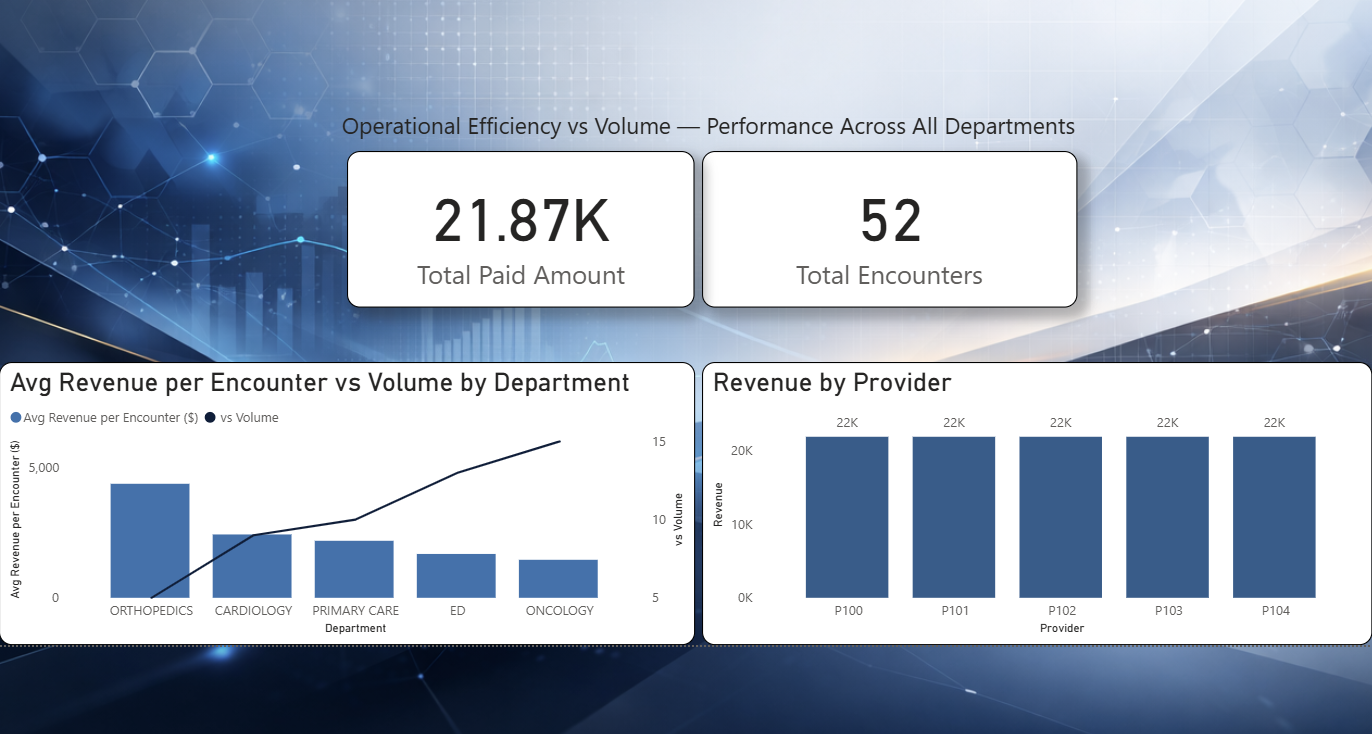

The dashboard page shown, as its layout file describes it:
{"tool":"powerbi","page":{"name":"Page 1","canvas":[1280,720],"ordinal":0},"visuals":[{"type":"lineClusteredColumnComboChart","title":"Avg Revenue per Encounter vs Volume by Department","fields":{"Category":["raw_encounters.department"],"Y2":["Count(raw_encounters.encounter_id)"],"Y":["raw_billing.Avg Paid per Encounter"]},"box":[0,455.9,648.9,263.8],"z":0},{"type":"clusteredColumnChart","fields":{"Y":["Sum(raw_billing.paid_amount)"],"Category":["raw_encounters.provider_id"]},"box":[655.4,455.9,624.6,263.8],"z":1000},{"type":"card","fields":{"Values":["Count(raw_encounters.encounter_id)"]},"box":[655.4,259.2,349.6,146.4],"z":2000},{"type":"card","fields":{"Values":["Sum(raw_billing.paid_amount)"]},"box":[324.4,259.2,324.4,146.4],"z":3000},{"type":"textbox","box":[266.6,215.4,789.6,43.8],"z":4000}]}

Visuals, with their boxes on the page's 1280x720 design canvas (x1, y1, x2, y2). These are canvas units, not pixel positions in the 1372x734 screenshot, which may show the page scaled, cropped or inside an application window:
"Avg Revenue per Encounter vs Volume by Department" lineClusteredColumnComboChart: bbox=[0, 456, 649, 720]
clusteredColumnChart - Sum(raw_billing.paid_amount) x raw_encounters.provider_id: bbox=[655, 456, 1280, 720]
card - Count(raw_encounters.encounter_id): bbox=[655, 259, 1005, 406]
card - Sum(raw_billing.paid_amount): bbox=[324, 259, 649, 406]
textbox: bbox=[267, 215, 1056, 259]
